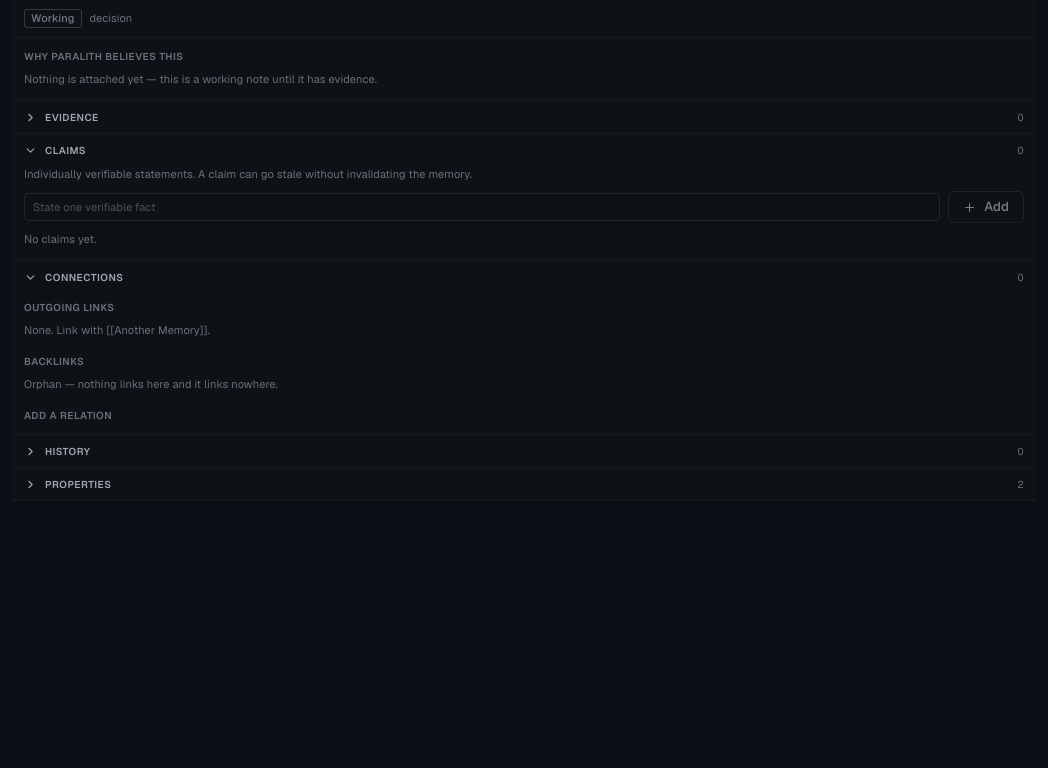
MemoryInspector › collapses and expands a section from the keyboard-reachable header
Click the button "Properties 2". click: (78, 484)
box: [12,468,1036,500]
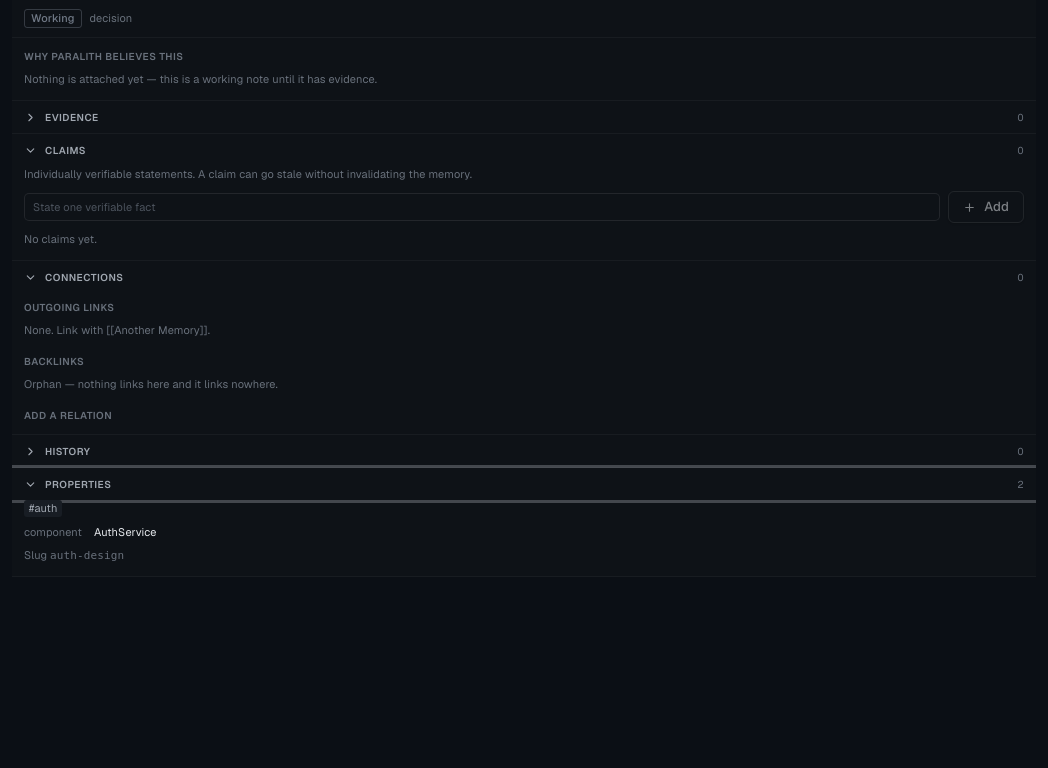
Now the text "component" is shown, box [24,524,82,539]
Now the text "AuthService" is shown, box [94,524,157,538]
